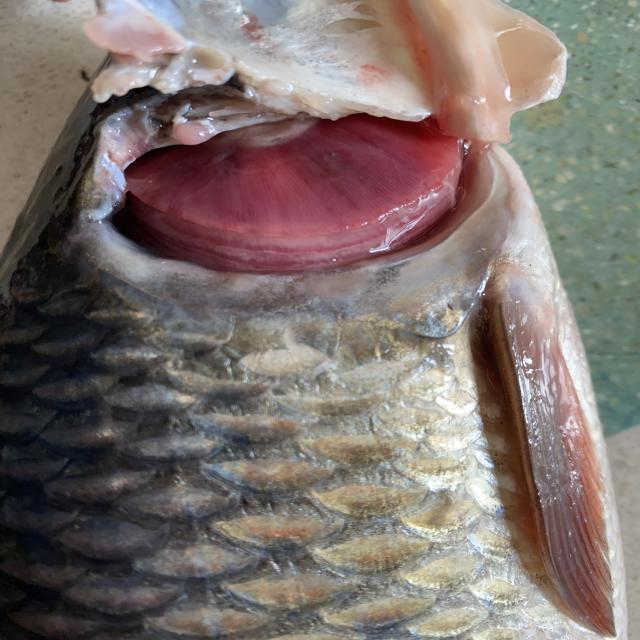Fresh: (61, 78, 522, 294)
